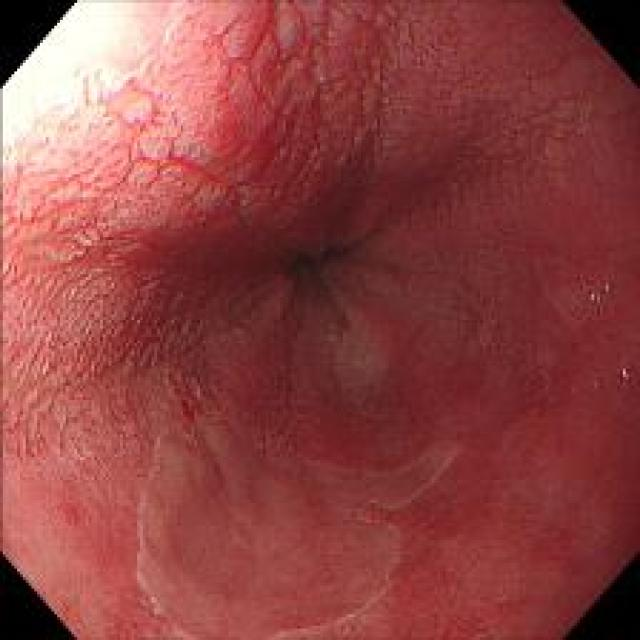bubbles: (565, 380, 578, 398), (442, 294, 456, 308), (588, 378, 600, 394)
color misalignment: (584, 272, 612, 300), (615, 352, 631, 386)
contrast: (279, 228, 360, 311)
saturation: (2, 1, 204, 185)
